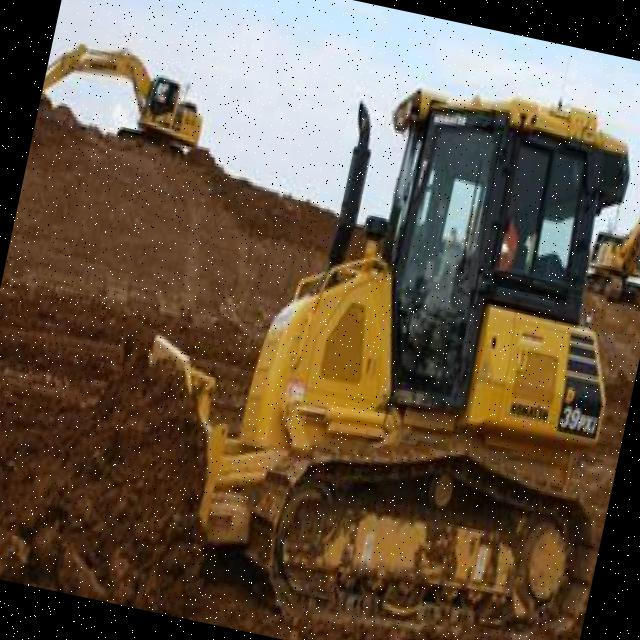Bulldozer: (108, 16, 640, 640)
Excavator: (23, 0, 235, 211), (575, 158, 640, 326)
